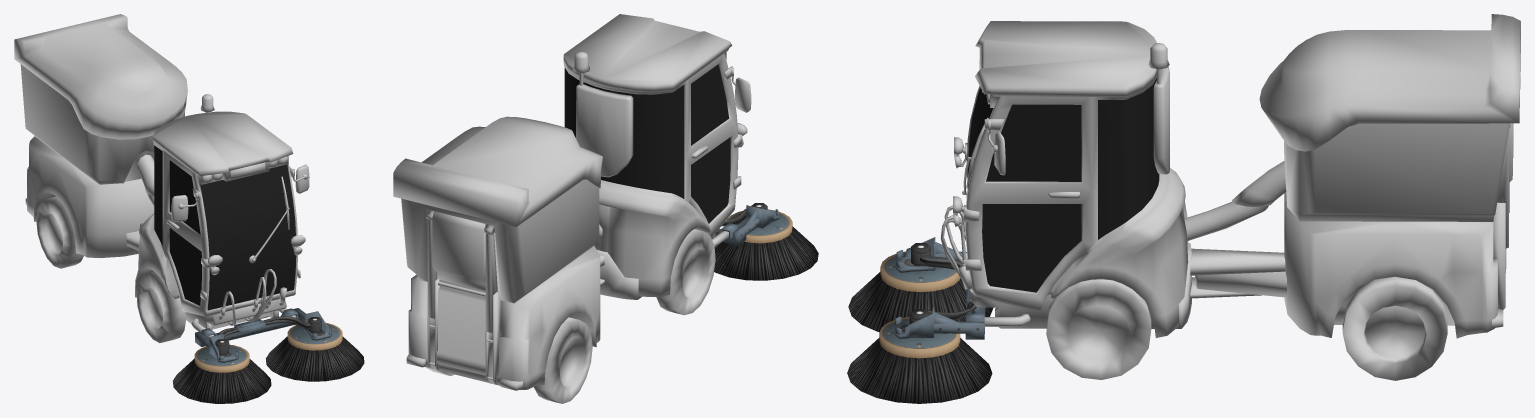
Rendered from cleaningv01.fbx.
3 views of the same model, side by side, from view 1: azimuth 30°, elevation 25°; view 2: azimuth 150°, elevation 25°; view 3: azimuth 270°, elevation 25° (orthographic). The views are drawn at different scales.
Visible parts, largest first — view 1: WheelBR018_CleaningMachine01_0_1009_Mesh, Brush_CleaningMachine01_Brush_0_1015_Mesh.002, Brush_CleaningMachine01_Brush_0_1015_Mesh.001, WheelBR018_CleaningMachine01_0_1009_Mesh.002, WheelBR018_CleaningMachine01_0_1009_Mesh.005; view 2: WheelBR018_CleaningMachine01_0_1009_Mesh, Brush_CleaningMachine01_Brush_0_1015_Mesh.002, WheelBR018_CleaningMachine01_0_1009_Mesh.005, WheelBR018_CleaningMachine01_0_1009_Mesh.002; view 3: WheelBR018_CleaningMachine01_0_1009_Mesh, WheelBR018_CleaningMachine01_0_1009_Mesh.004, WheelBR018_CleaningMachine01_0_1009_Mesh.003, Brush_CleaningMachine01_Brush_0_1015_Mesh.001, Brush_CleaningMachine01_Brush_0_1015_Mesh.002.
Part boxes in pixels (<box>): WheelBR018_CleaningMachine01_0_1009_Mesh: <box>14,14,331,362</box>; Brush_CleaningMachine01_Brush_0_1015_Mesh.002: <box>173,344,271,403</box>; Brush_CleaningMachine01_Brush_0_1015_Mesh.001: <box>265,323,364,381</box>; WheelBR018_CleaningMachine01_0_1009_Mesh.002: <box>136,271,185,342</box>; WheelBR018_CleaningMachine01_0_1009_Mesh.005: <box>36,196,83,268</box>; WheelBR018_CleaningMachine01_0_1009_Mesh: <box>393,14,779,390</box>; Brush_CleaningMachine01_Brush_0_1015_Mesh.002: <box>714,209,818,280</box>; WheelBR018_CleaningMachine01_0_1009_Mesh.005: <box>534,317,592,403</box>; WheelBR018_CleaningMachine01_0_1009_Mesh.002: <box>656,229,715,315</box>; WheelBR018_CleaningMachine01_0_1009_Mesh: <box>895,14,1520,339</box>; WheelBR018_CleaningMachine01_0_1009_Mesh.004: <box>1342,276,1447,380</box>; WheelBR018_CleaningMachine01_0_1009_Mesh.003: <box>1046,279,1151,379</box>; Brush_CleaningMachine01_Brush_0_1015_Mesh.001: <box>847,317,992,403</box>; Brush_CleaningMachine01_Brush_0_1015_Mesh.002: <box>848,251,993,332</box>.
Size of the model in its own units: 291 by 331 by 649.
